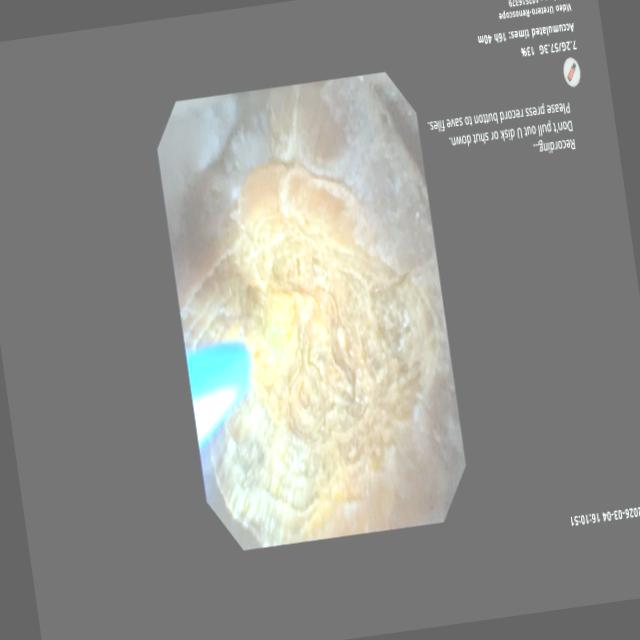0: (174, 81, 465, 545)
laser_dot: (265, 320, 292, 359)
